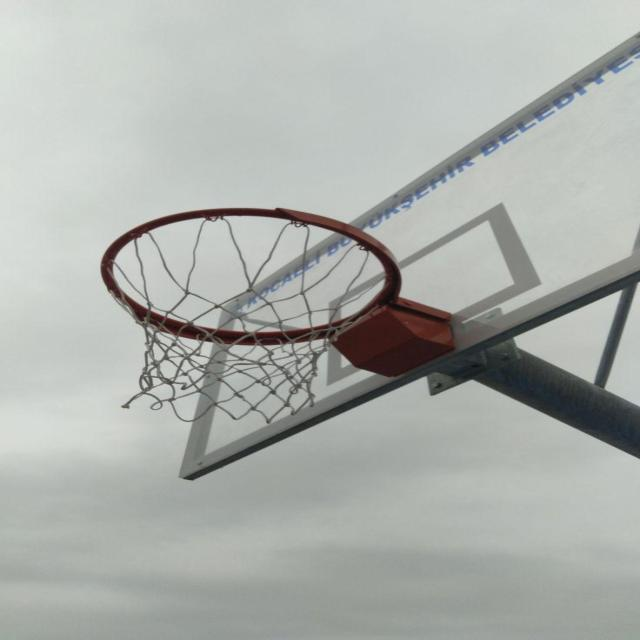hoop: (84, 219, 378, 427)
